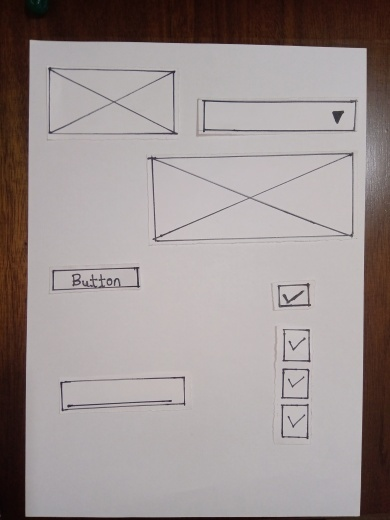button: (51, 271, 142, 289)
checkbox: (283, 330, 309, 395), (284, 366, 310, 396), (284, 402, 307, 434), (277, 284, 309, 305)
dropdown: (202, 100, 359, 134)
img: (150, 156, 353, 242), (48, 69, 177, 138)
text: (62, 382, 191, 407)
